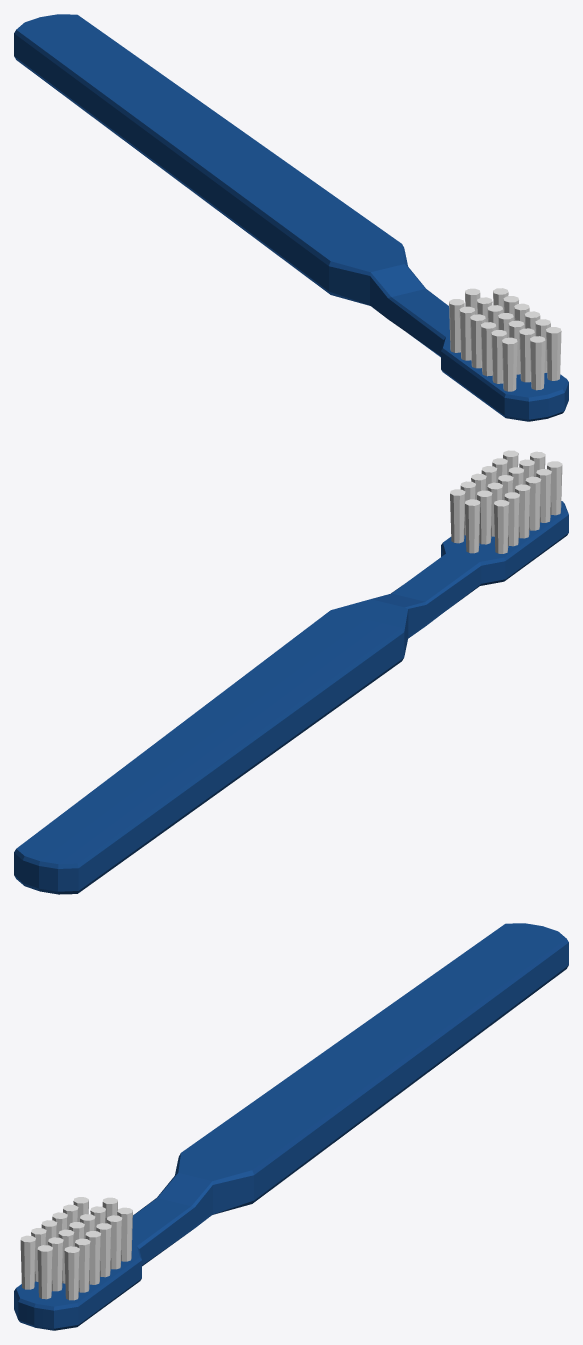
Rendered from tootthbrush.fbx.
3 renders of one model, top to bottom at view 1: azimuth 30°, elevation 25°; view 2: azimuth 150°, elevation 25°; view 3: azimuth 330°, elevation 25°, orthographic.
Visible parts, largest first — view 1: Mesh; view 2: Mesh; view 3: Mesh.
Part boxes in pixels (x1,y1,x2,y2): Mesh: [14, 14, 568, 421]; Mesh: [14, 450, 568, 894]; Mesh: [14, 923, 568, 1330].
Bounding box in the file's own units: 0.693 × 0.635 × 8.12.
